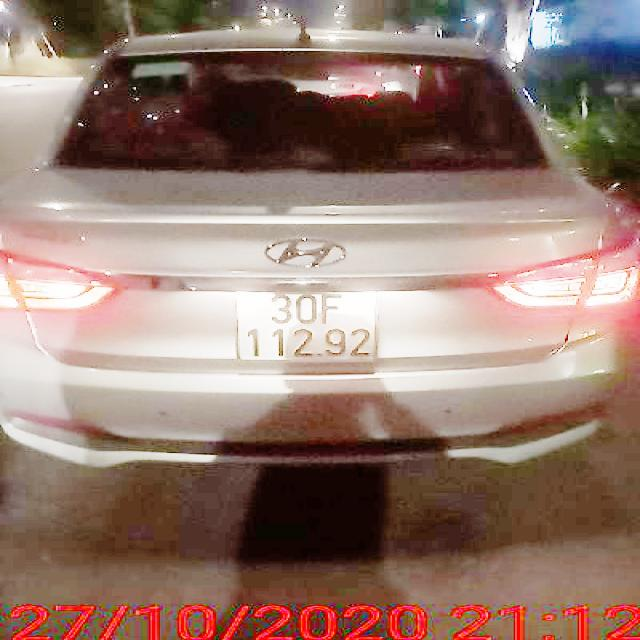license_plate: (236, 287, 378, 361)
